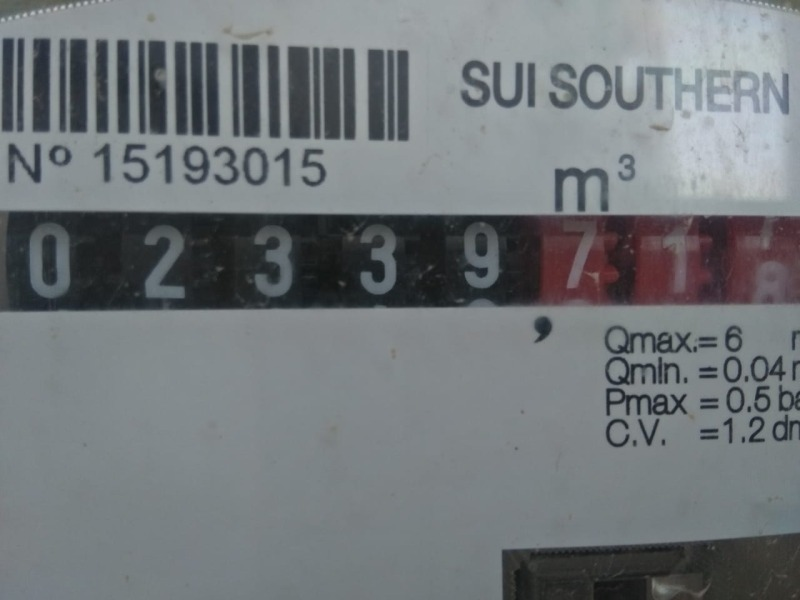ssgc: (5, 206, 794, 318)
